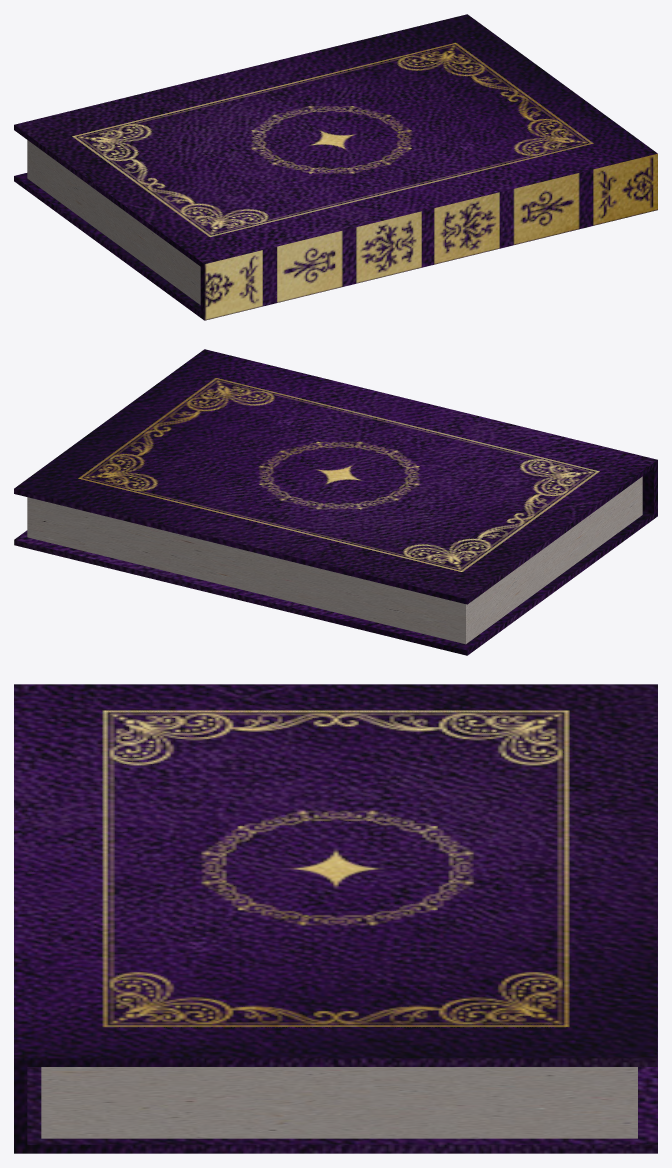
File: Livre_Violet_Low_2.gltf
3 renders of one model, top to bottom at view 1: azimuth 30°, elevation 25°; view 2: azimuth 150°, elevation 25°; view 3: azimuth 270°, elevation 25°, orthographic. The views are drawn at different scales.
Visible parts, largest first — view 1: Plane.001, Cube.002, Livre_Violet; view 2: Plane.001, Cube.002, Livre_Violet; view 3: Plane.001, Livre_Violet, Cube.002.
Boxes of the visible parts, x1,y1,x2,y2 form: Plane.001: [14, 14, 657, 320]; Cube.002: [27, 140, 200, 304]; Livre_Violet: [14, 38, 516, 311]; Plane.001: [14, 349, 657, 655]; Cube.002: [27, 476, 642, 644]; Livre_Violet: [14, 352, 657, 635]; Plane.001: [14, 684, 657, 1153]; Livre_Violet: [14, 684, 657, 1153]; Cube.002: [41, 1067, 637, 1138].
Size of the model in its own units: 0.3076 by 0.0366 by 0.224.
Materials: 4 (4 with a texture image).
